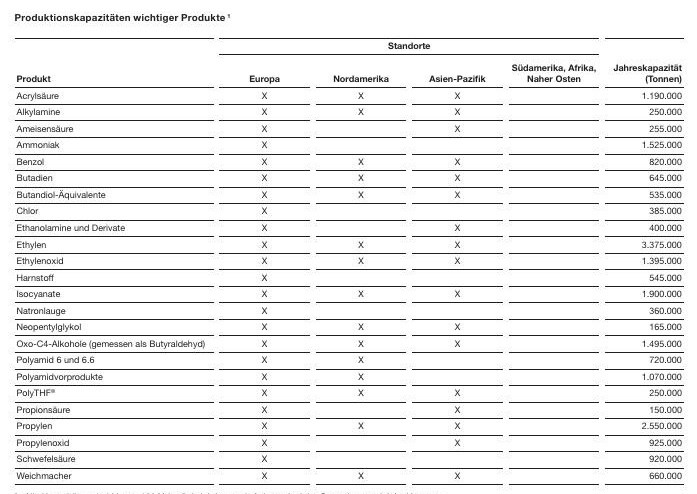table: (0, 0, 697, 494)
